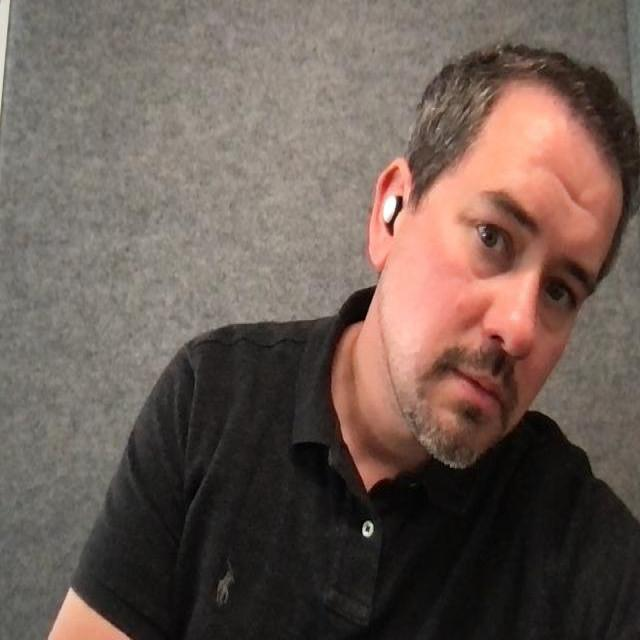face: (368, 44, 640, 473)
